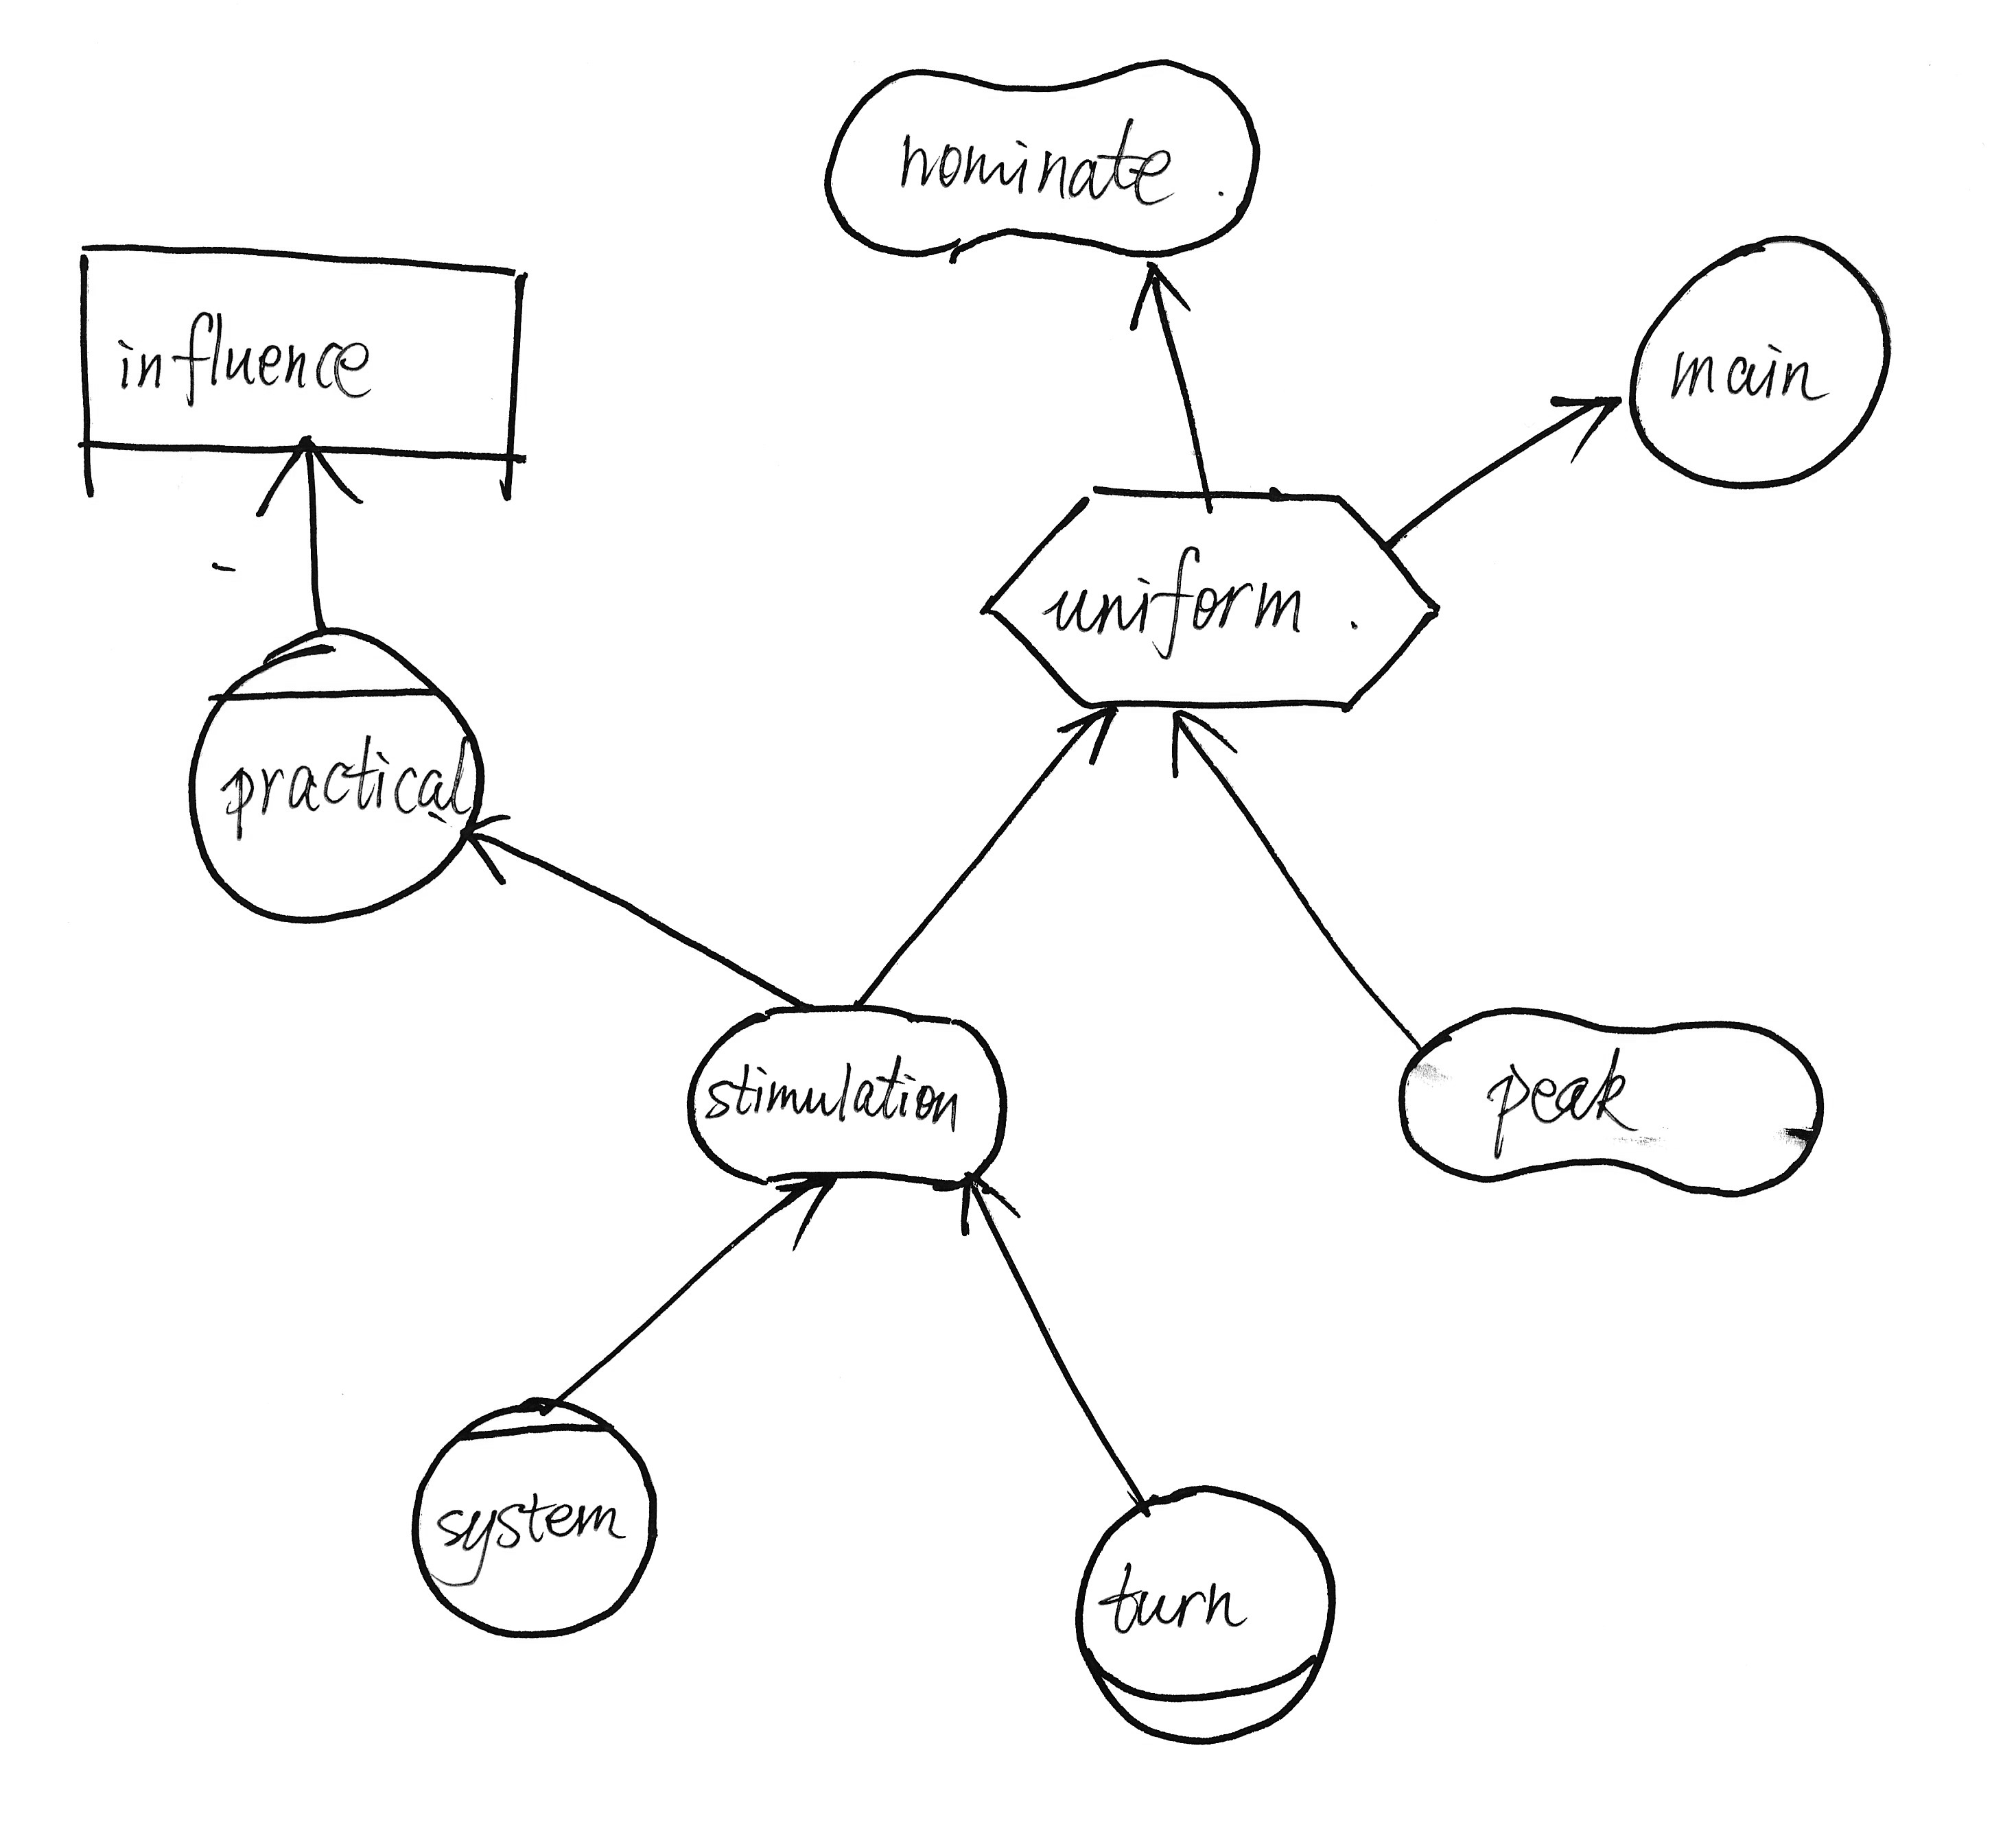actor: (1602, 216, 1916, 507)
agent: (169, 607, 506, 934), (393, 1382, 681, 1663)
arrow: (239, 425, 395, 530), (1533, 370, 1633, 490), (1105, 242, 1219, 342), (1150, 699, 1259, 795), (1027, 690, 1124, 783), (941, 1161, 1031, 1248), (450, 804, 523, 909), (766, 1166, 848, 1259)
goal: (674, 992, 1031, 1204)
quality: (801, 32, 1280, 276), (1387, 988, 1844, 1215)
resource: (49, 223, 560, 521)
role: (1059, 1471, 1359, 1759)
task: (959, 465, 1454, 734)
